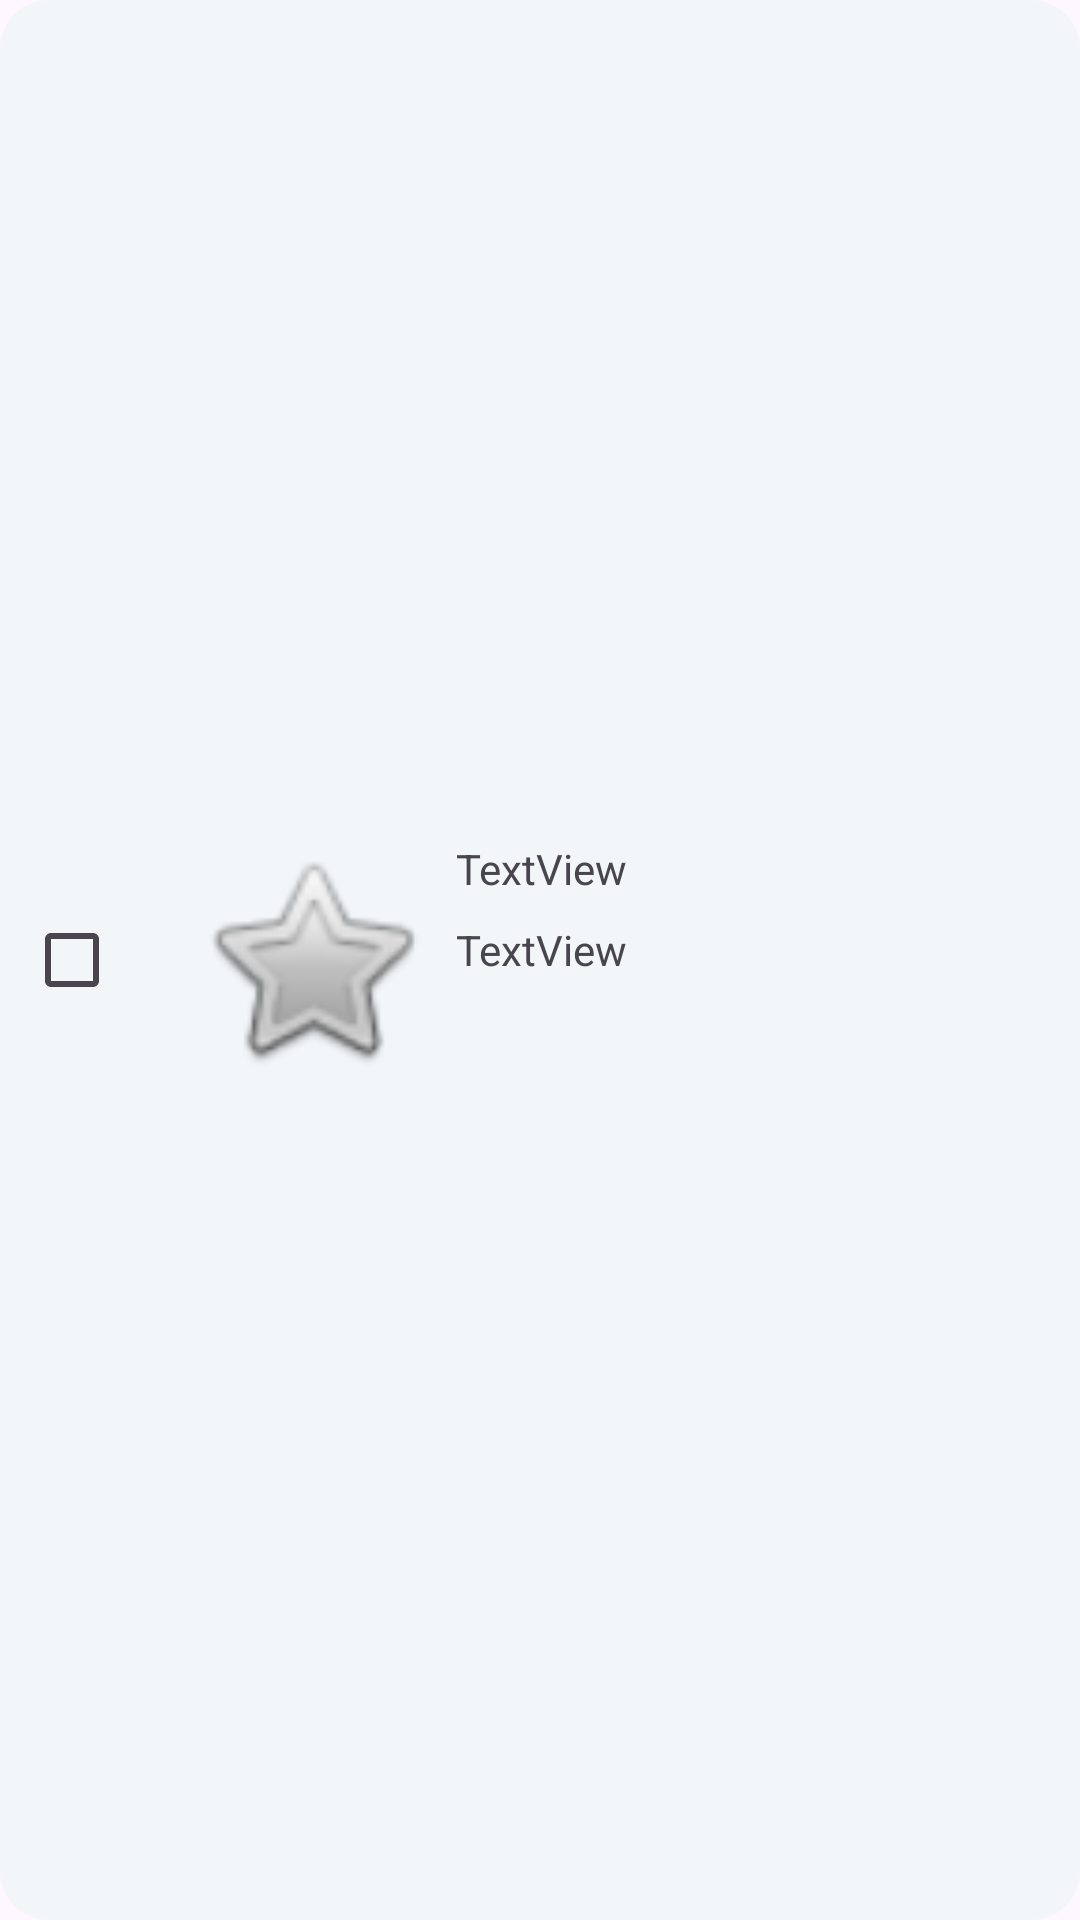

Named icons in this screenshot (1080px×1920px) and their bounding boxes, region(x1, y1, x2, y2):
star: region(214, 864, 414, 1060)
